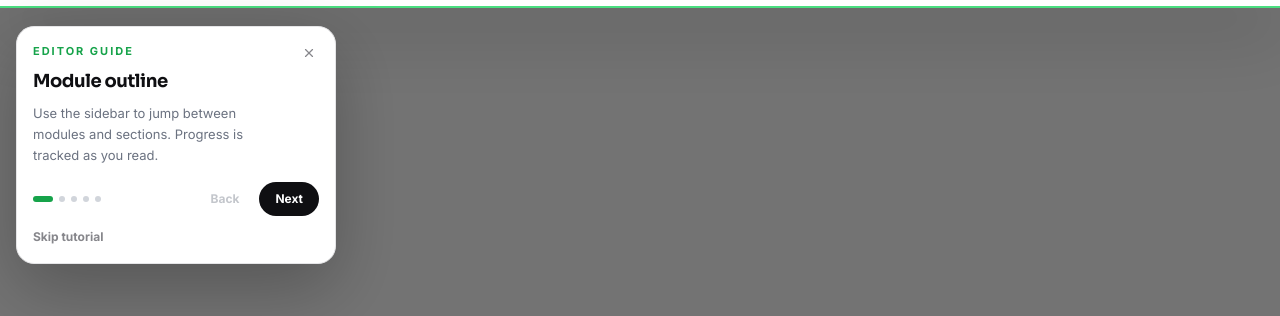
Test: EditorFirstRunGuide › skips tutorial targets that are unavailable before generated pages exist
expect the heading "Module outline" is shown: met, box [33,70,168,92]
Click the button "Next" at x=289, y=199, box [259,182,319,216]
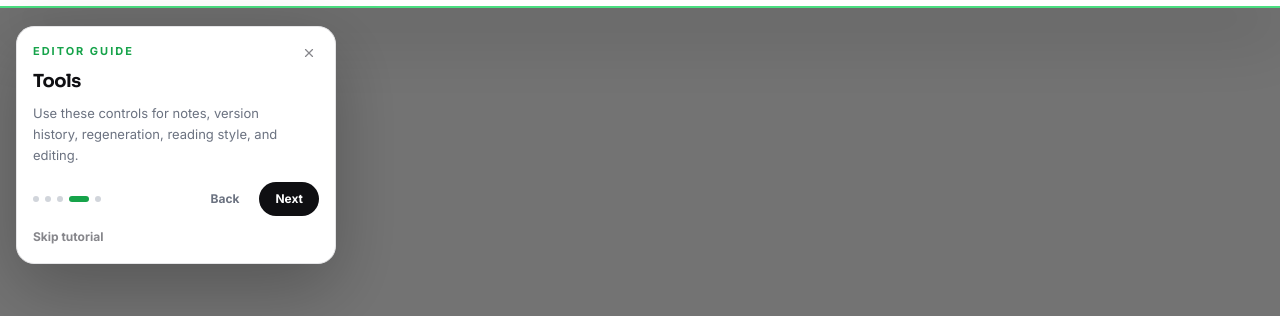
expect the heading "Tools" is shown: met, box [33,70,81,92]
